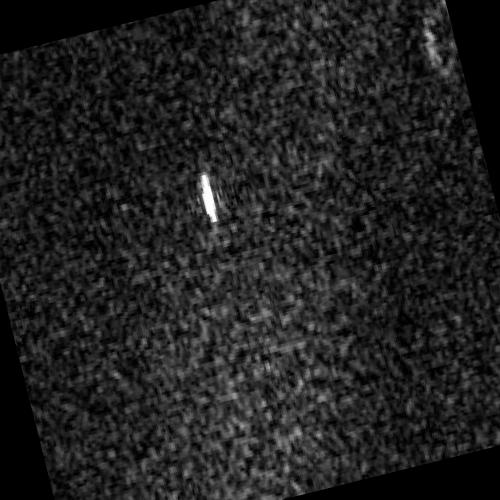ship: (200, 172, 217, 225)
